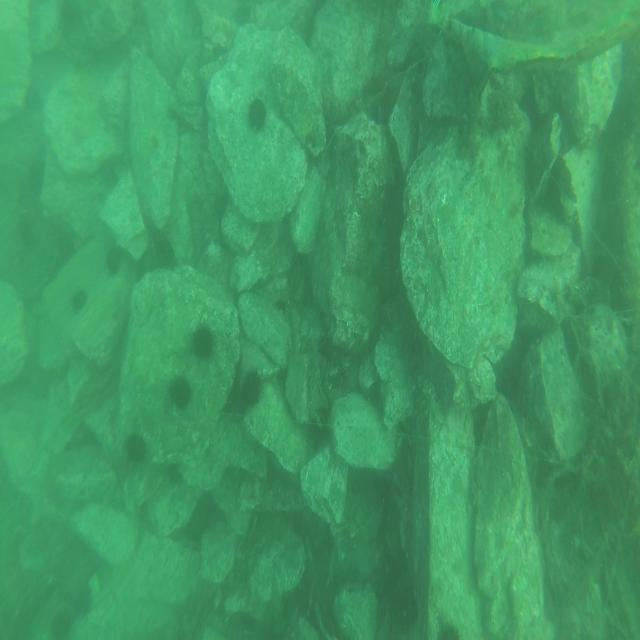echinus: (187, 322, 216, 363), (165, 369, 191, 411), (122, 431, 151, 467), (246, 88, 269, 133), (241, 368, 265, 411), (438, 620, 462, 640), (105, 245, 121, 275)
